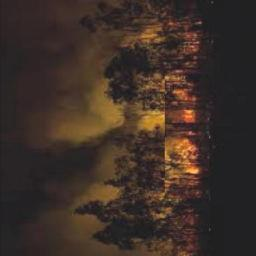Heavy smoke: (1, 1, 148, 256)
Large fire: (148, 1, 209, 256)
